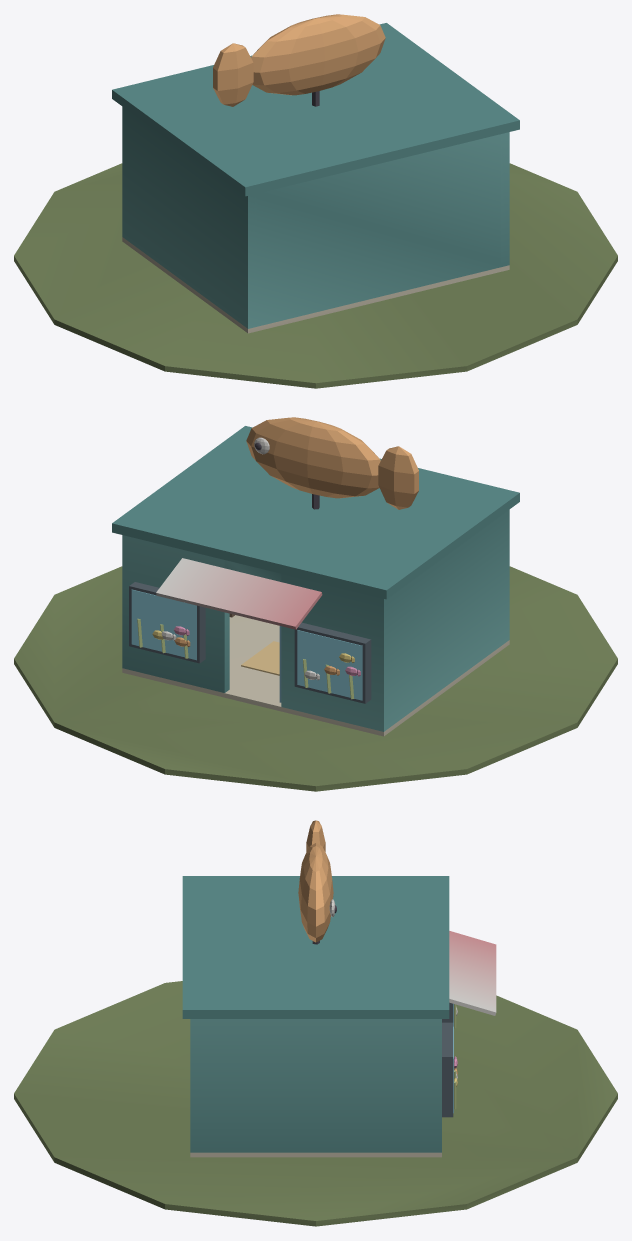
The model's file is AquariumShop.fbx.
3 views of the same model, one above another, from view 1: azimuth 30°, elevation 25°; view 2: azimuth 150°, elevation 25°; view 3: azimuth 270°, elevation 25° (orthographic).
Visible parts, largest first — view 1: Bld_AquariumShop, Bld_AquariumShop_Roof; view 2: Bld_AquariumShop, Bld_AquariumShop_Roof; view 3: Bld_AquariumShop, Bld_AquariumShop_Roof.
Boxes of the visible parts, x1=… form: Bld_AquariumShop: x1=14, y1=106, x2=617, y2=388; Bld_AquariumShop_Roof: x1=112, y1=14, x2=519, y2=196; Bld_AquariumShop: x1=14, y1=509, x2=617, y2=791; Bld_AquariumShop_Roof: x1=112, y1=417, x2=519, y2=629; Bld_AquariumShop: x1=14, y1=981, x2=617, y2=1226; Bld_AquariumShop_Roof: x1=182, y1=820, x2=496, y2=1018.
Size of the model in its own units: 12 by 5.32 by 12.
